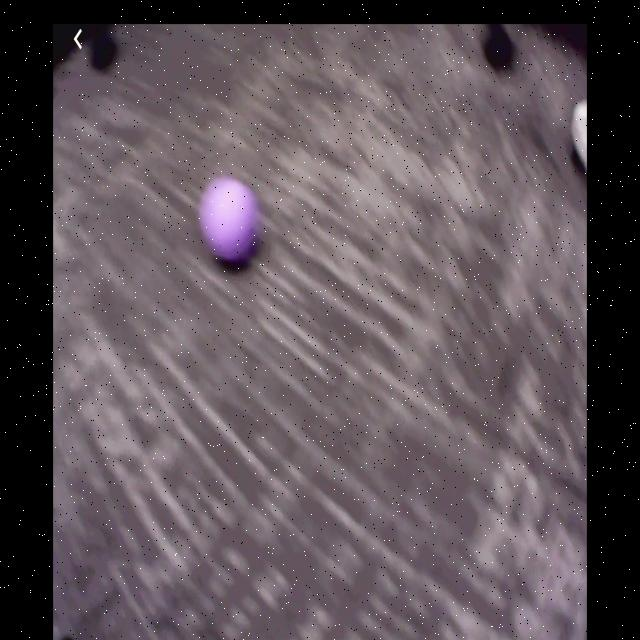ball: (201, 178, 258, 263)
